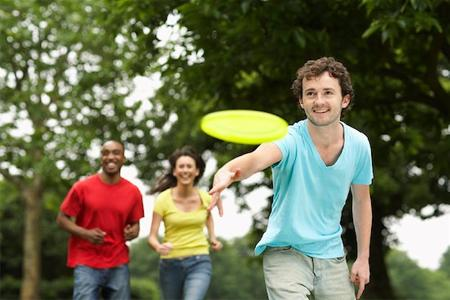person: (208, 56, 374, 300)
